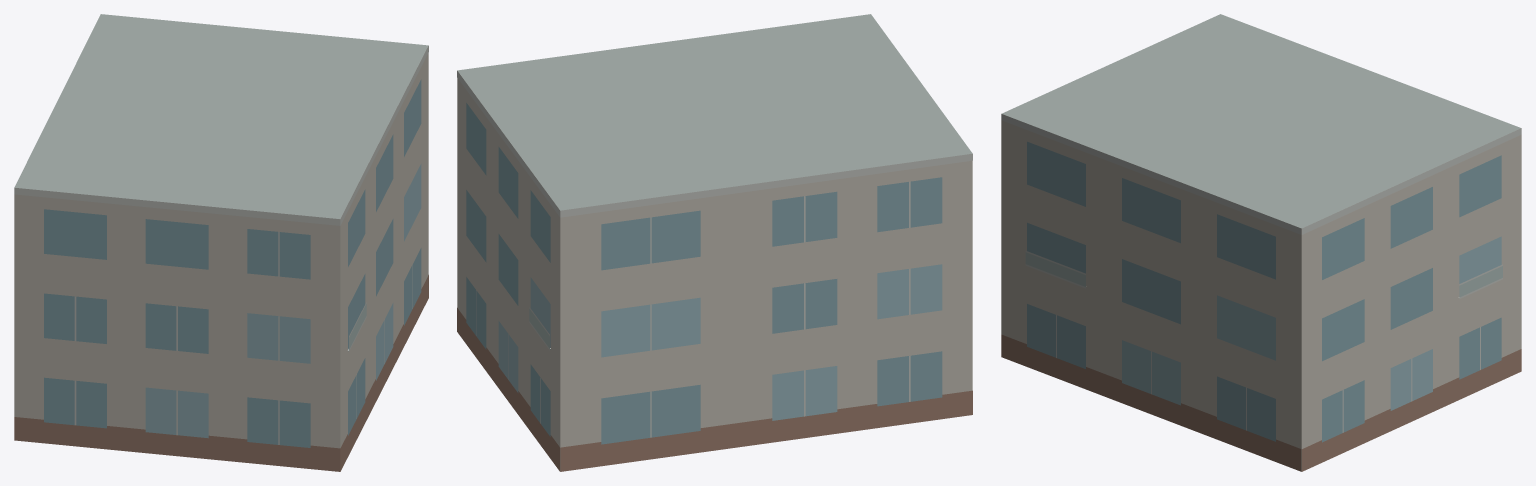
File: survey-upis-32698028.glb
The picture shows the model from 3 angles, left to right: view 1: azimuth 30°, elevation 25°; view 2: azimuth 150°, elevation 25°; view 3: azimuth 270°, elevation 25°; orthographic projection. The views are drawn at different scales.
Visible parts, largest first — view 1: survey-upis-32698028.tmp; view 2: survey-upis-32698028.tmp; view 3: survey-upis-32698028.tmp.
Boxes of the visible parts, bbox=[...] form: survey-upis-32698028.tmp: bbox=[14, 14, 428, 471]; survey-upis-32698028.tmp: bbox=[457, 14, 972, 471]; survey-upis-32698028.tmp: bbox=[1001, 14, 1521, 471].
Size of the model in its own units: 17.31 by 9.15 by 17.73.
